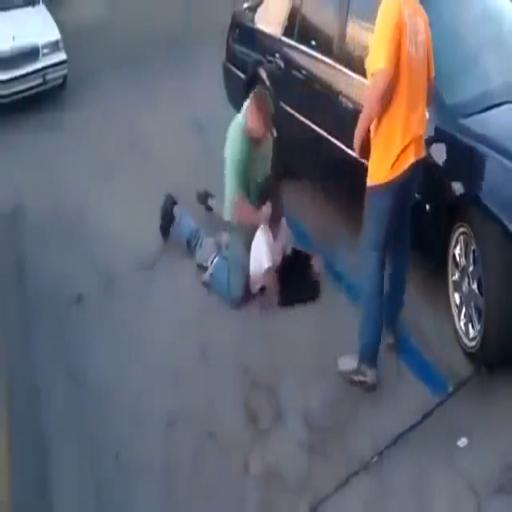violencia: (151, 44, 325, 334)
